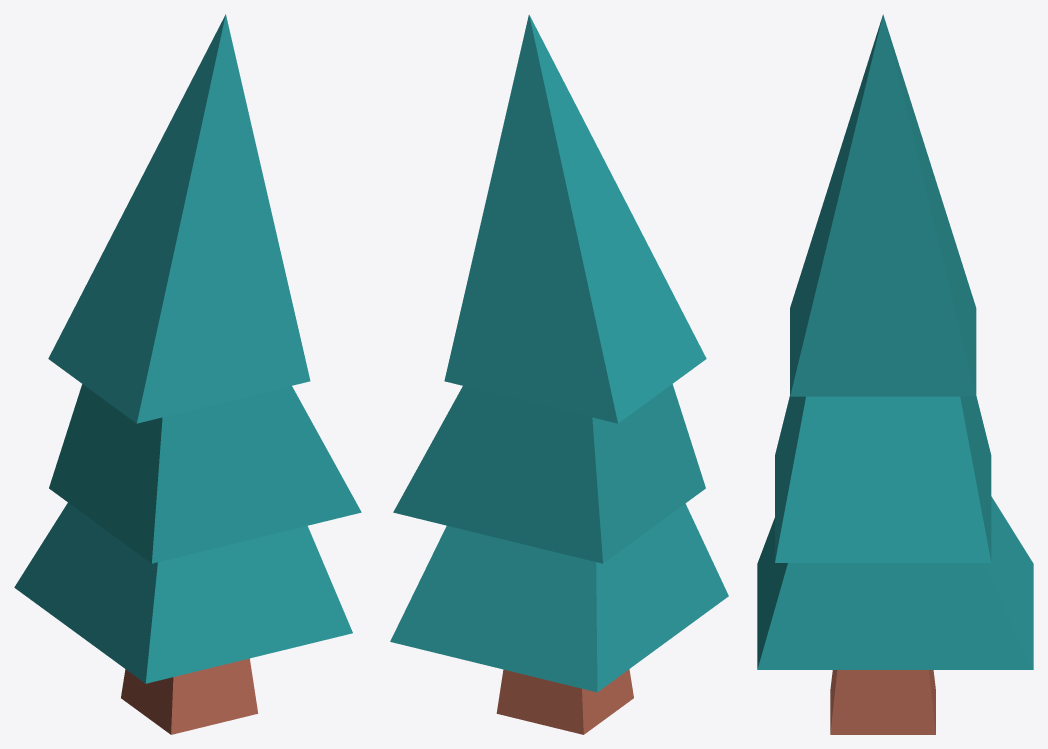
Rendered from tree_pineSmallC.dae.
3 renders of one model, left to right at view 1: azimuth 30°, elevation 25°; view 2: azimuth 150°, elevation 25°; view 3: azimuth 270°, elevation 25°, orthographic. The views are drawn at different scales.
Parts seen in each view (by area): view 1: tree_pineSmallC; view 2: tree_pineSmallC; view 3: tree_pineSmallC.
Part boxes in pixels (left/top/right/bottom): tree_pineSmallC: left=14, top=14, right=361, bottom=734; tree_pineSmallC: left=390, top=14, right=728, bottom=734; tree_pineSmallC: left=757, top=14, right=1033, bottom=734.
Bounding box in the file's own units: 0.3863 × 1.12 × 0.392.
